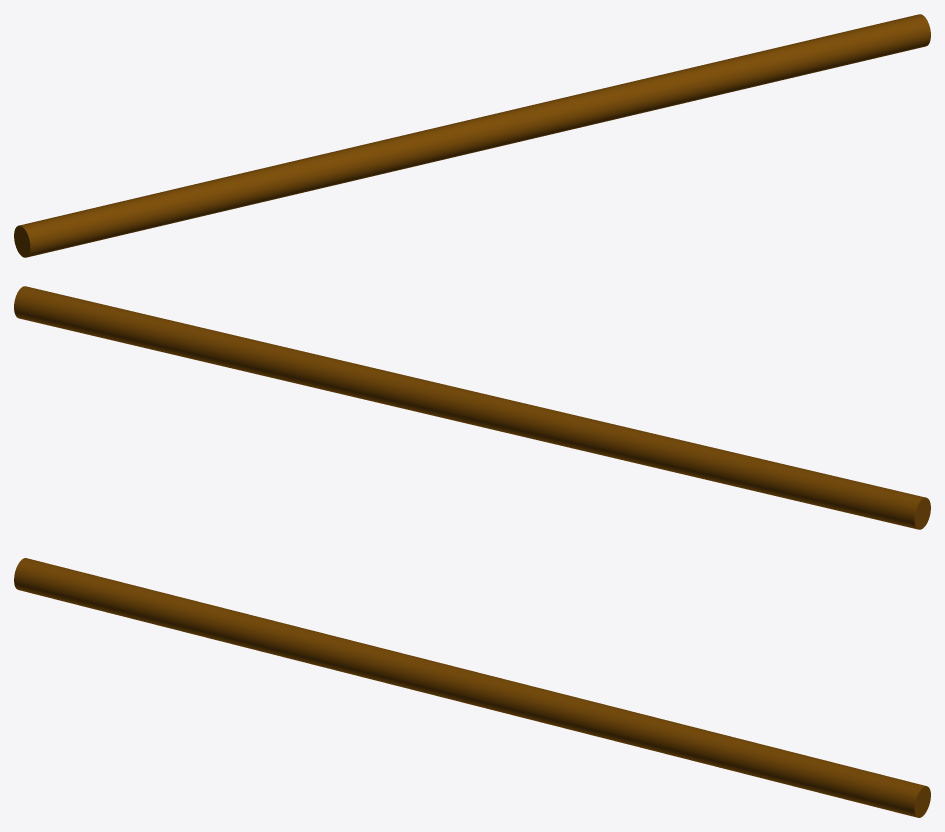
Rendered from original-2.obj.
3 views of the same model, one above another, from view 1: azimuth 30°, elevation 25°; view 2: azimuth 150°, elevation 25°; view 3: azimuth 330°, elevation 25° (orthographic).
Parts seen in each view (by area): view 1: mesh2/mesh2-geometry#mesh2-geometry; view 2: mesh2/mesh2-geometry#mesh2-geometry; view 3: mesh2/mesh2-geometry#mesh2-geometry.
Part boxes in pixels (bbox=[...]): mesh2/mesh2-geometry#mesh2-geometry: bbox=[14, 14, 930, 257]; mesh2/mesh2-geometry#mesh2-geometry: bbox=[14, 286, 930, 529]; mesh2/mesh2-geometry#mesh2-geometry: bbox=[14, 558, 930, 817].
Size of the model in its own units: 1.48 by 0.06 by 0.0469.
